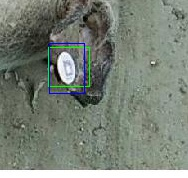text: (48, 47, 89, 86)
